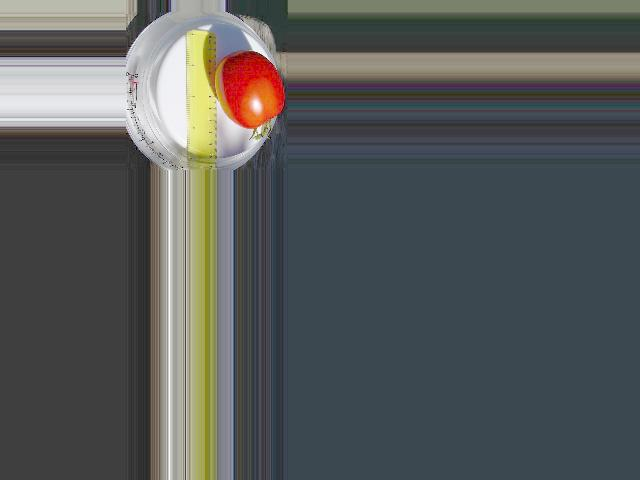tomato: (213, 51, 285, 129)
